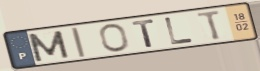I: (68, 26, 88, 59)
L: (163, 16, 196, 46)
M: (25, 29, 72, 63)
O: (98, 22, 132, 53)
T: (195, 9, 224, 42), (130, 18, 157, 49)
